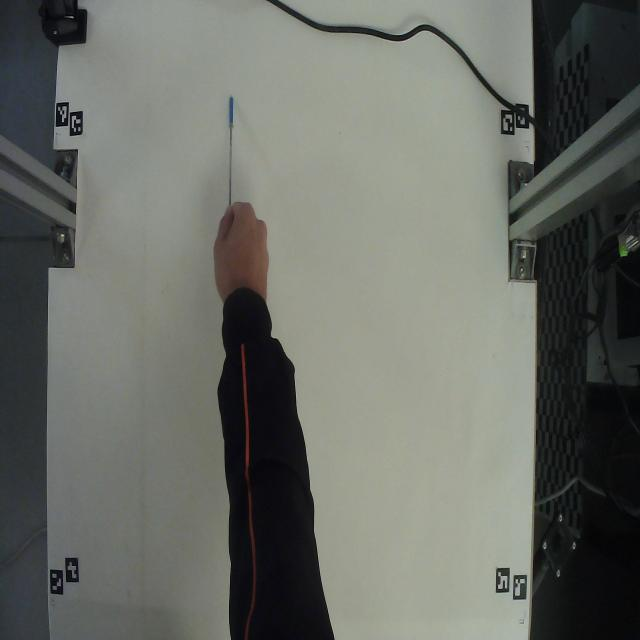Pres: (222, 90, 242, 201)
